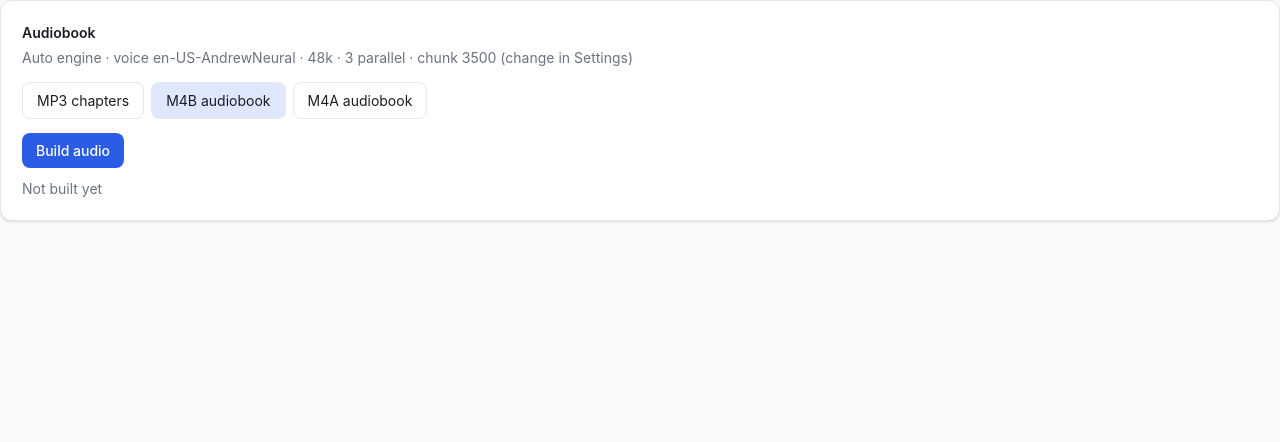
Test: Audiobook — Step 7 MP3/M4B/M4A › m4b without ffmpeg shows missing-ffmpeg warning, no file button
This screenshot has width=1280, height=442.
Click the button with test id "audio-build".
click(73, 150)  # box [22,132,124,168]
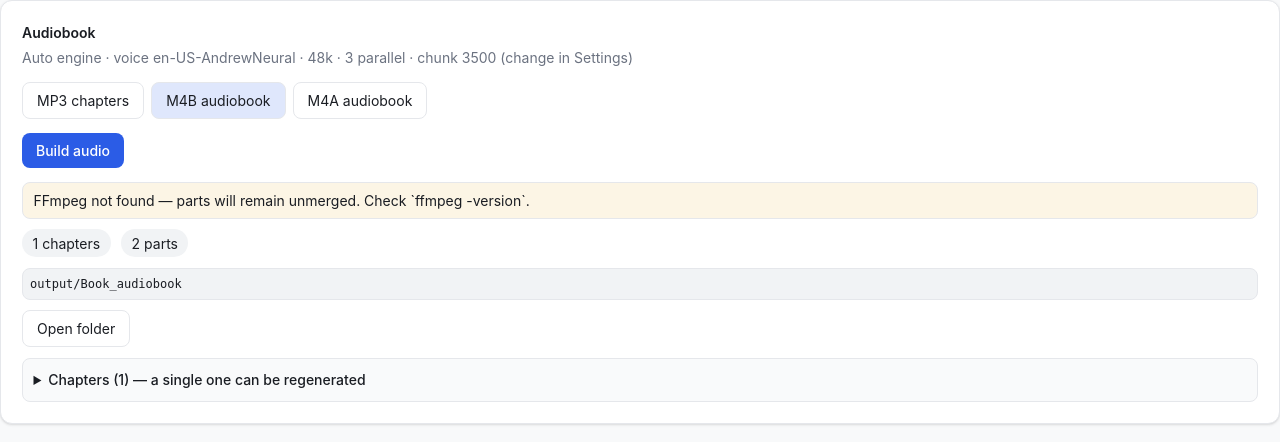
Check: the message "FFmpeg not found — parts will remain unmerged. Check `ffmpeg -version`." is shown, box [22,182,1258,218]
Check: the button with test id "audio-open-folder" is shown, box [22,310,130,347]
